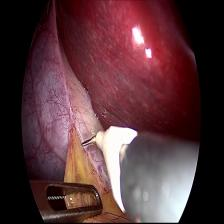Grasper: (29, 179, 107, 224)
Hook: (81, 126, 145, 216)
